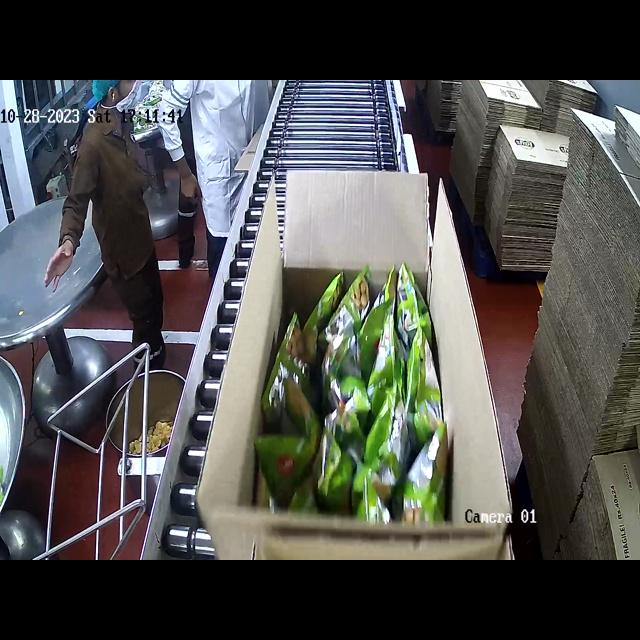yogurt: (254, 260, 450, 524)
